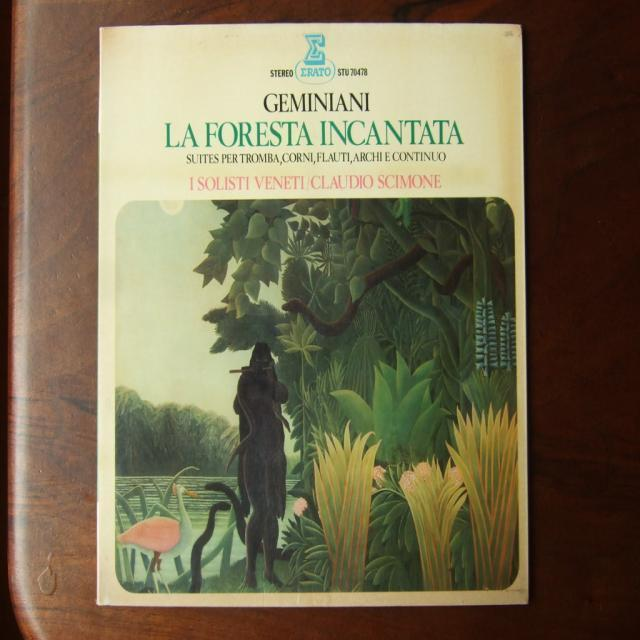book: (98, 21, 527, 607)
